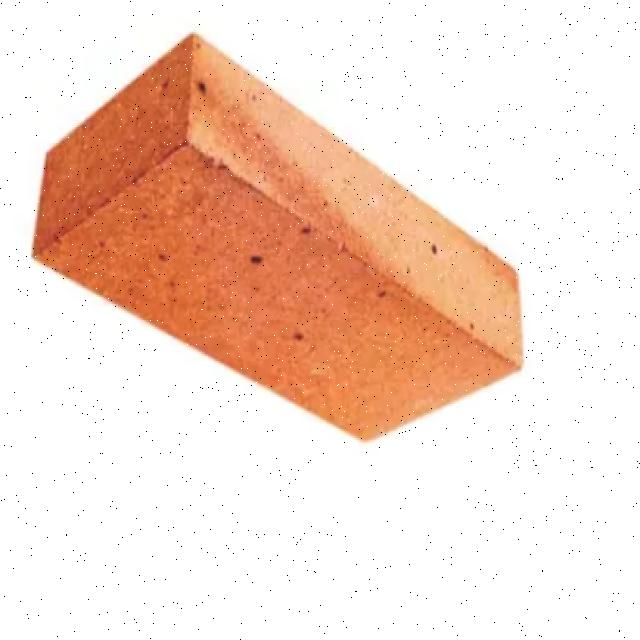bricks: (32, 32, 525, 445)
